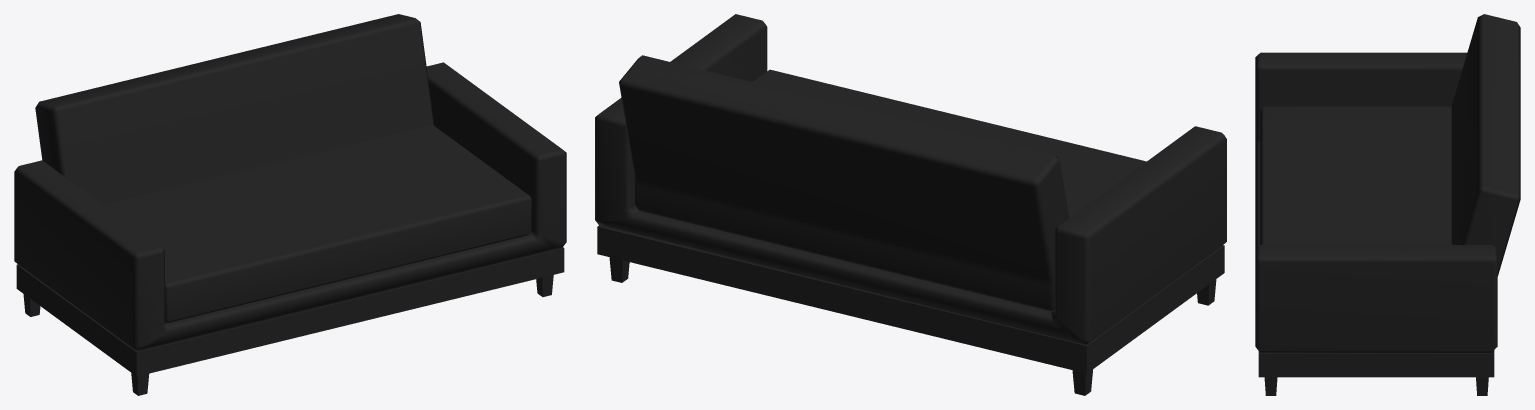
The model's file is sofa_020.fbx.
3 renders of one model, left to right at view 1: azimuth 30°, elevation 25°; view 2: azimuth 150°, elevation 25°; view 3: azimuth 270°, elevation 25°, orthographic. The views are drawn at different scales.
Parts seen in each view (by area): view 1: sofa_020; view 2: sofa_020; view 3: sofa_020.
Boxes of the visible parts, box(x1,y1,x2,y2) form: sofa_020: box(14, 14, 566, 395); sofa_020: box(595, 14, 1226, 395); sofa_020: box(1255, 14, 1520, 395).
Size of the model in its own units: 277 by 150 by 123.
